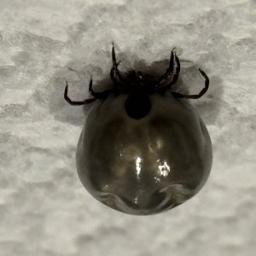Ixodes scapularis: (63, 41, 212, 216)
